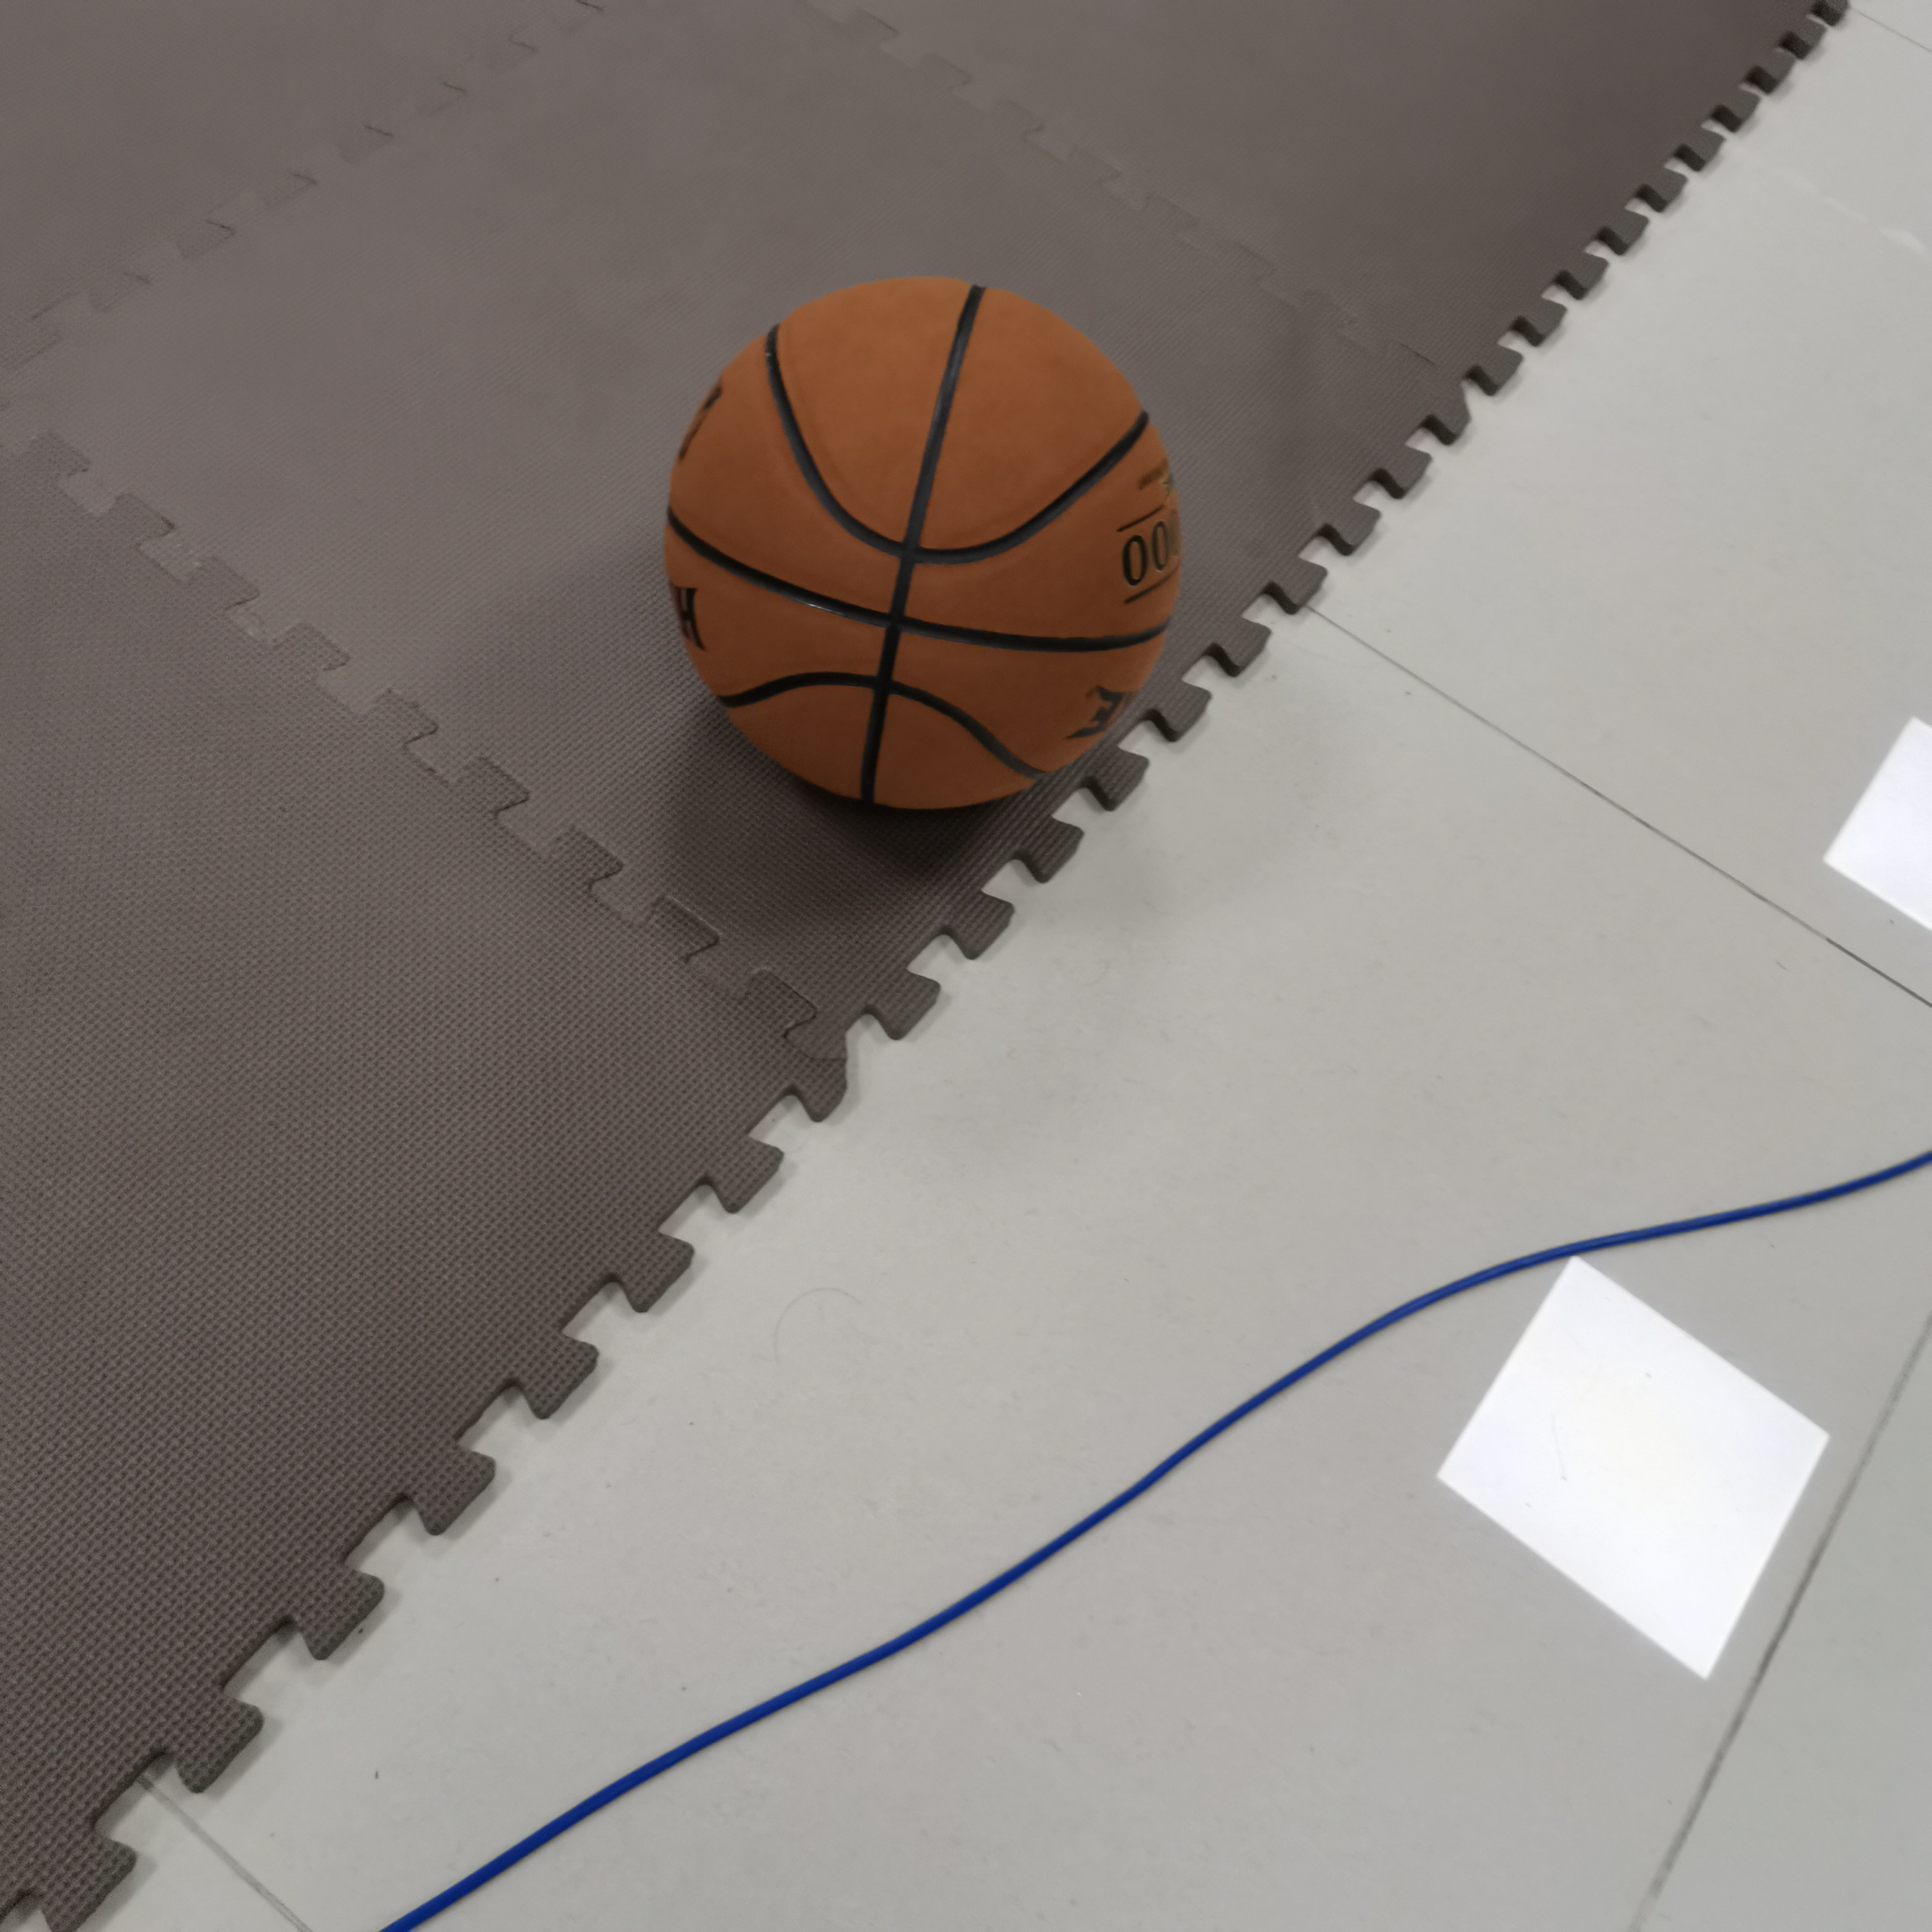basketball: (665, 274, 1185, 810)
